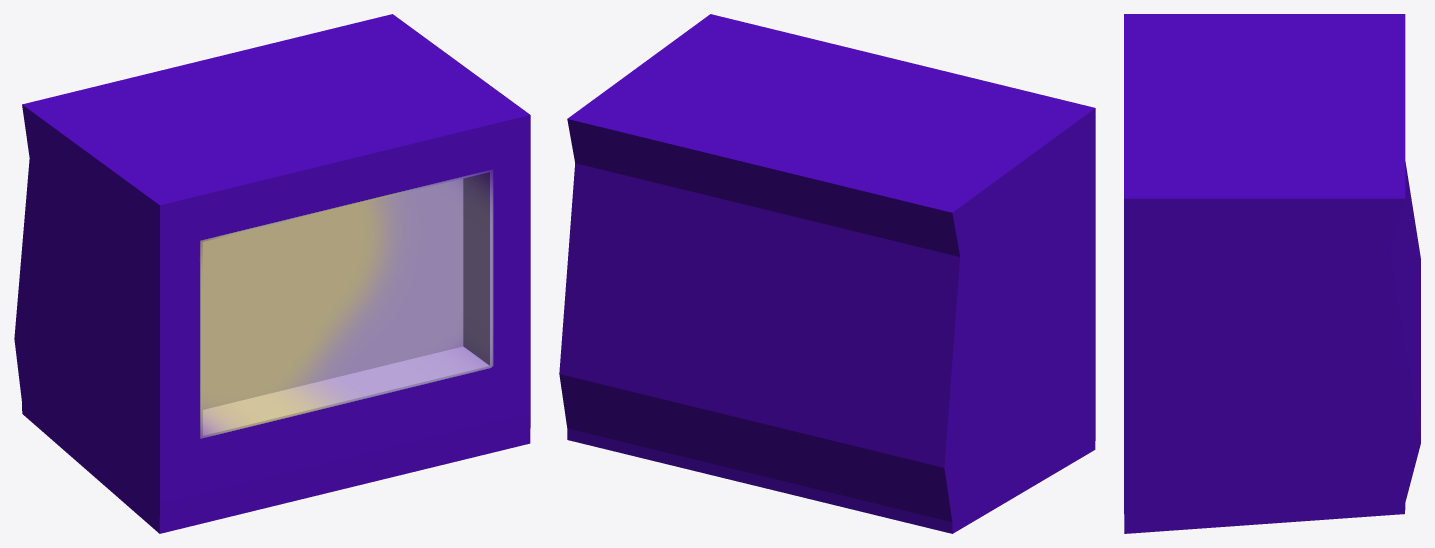
Rendered from reflektor.glb.
3 views of the same model, side by side, from view 1: azimuth 30°, elevation 25°; view 2: azimuth 150°, elevation 25°; view 3: azimuth 270°, elevation 25° (orthographic). The views are drawn at different scales.
Parts seen in each view (by area): view 1: Cube; view 2: Cube; view 3: Cube.
Part boxes in pixels (bbox=[...]): Cube: bbox=[14, 14, 530, 533]; Cube: bbox=[559, 14, 1095, 533]; Cube: bbox=[1124, 14, 1420, 533].
Bounding box in the file's own units: 3.1 × 2.63 × 2.11.
Materials: 1 (1 with a texture image).
